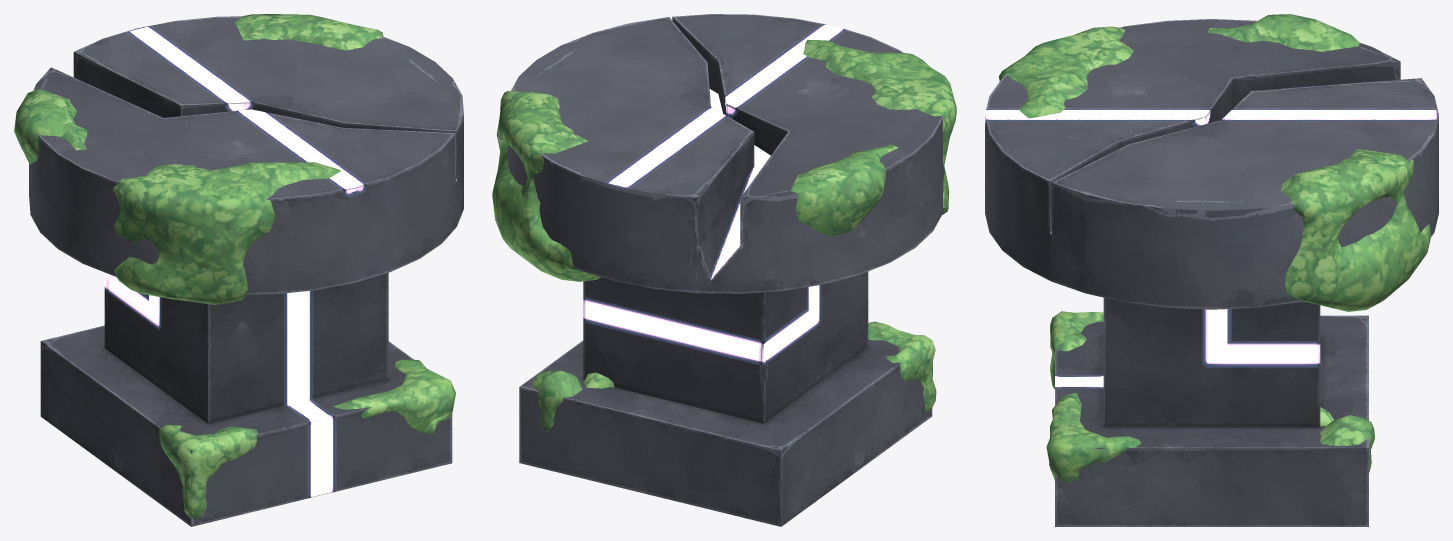
Rendered from Rune_3.fbx.
3 renders of one model, left to right at view 1: azimuth 30°, elevation 25°; view 2: azimuth 150°, elevation 25°; view 3: azimuth 270°, elevation 25°, orthographic. The views are drawn at different scales.
Visible parts, largest first — view 1: rune 3 low, rune 3 moss low; view 2: rune 3 low, rune 3 moss low; view 3: rune 3 low, rune 3 moss low.
Boxes of the visible parts, x1,y1,x2,y2 form: rune 3 low: (29, 16, 463, 526); rune 3 moss low: (14, 14, 455, 519); rune 3 low: (507, 14, 944, 526); rune 3 moss low: (492, 39, 956, 431); rune 3 low: (985, 19, 1438, 526); rune 3 moss low: (999, 14, 1430, 482).
Bounding box in the file's own units: 83.56 × 72.45 × 83.25.
2 materials, 2 textured.
